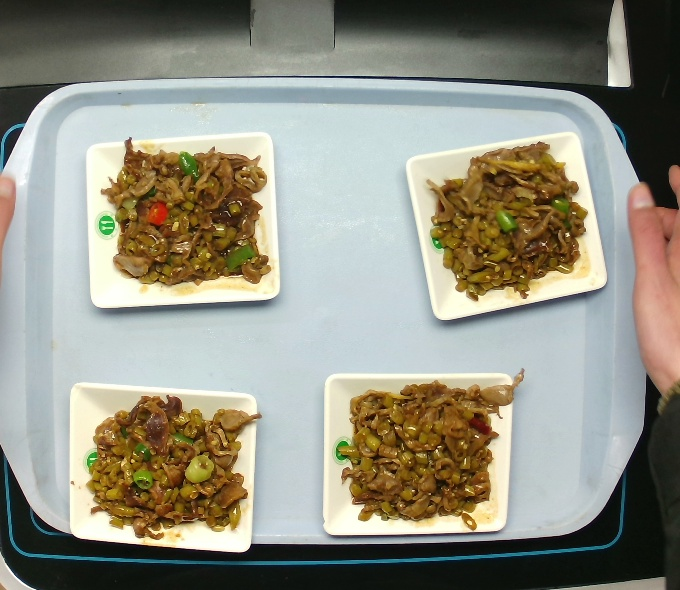wcq-JiZhen: (334, 365, 526, 534), (82, 384, 262, 547), (99, 127, 276, 292), (423, 137, 590, 304)
